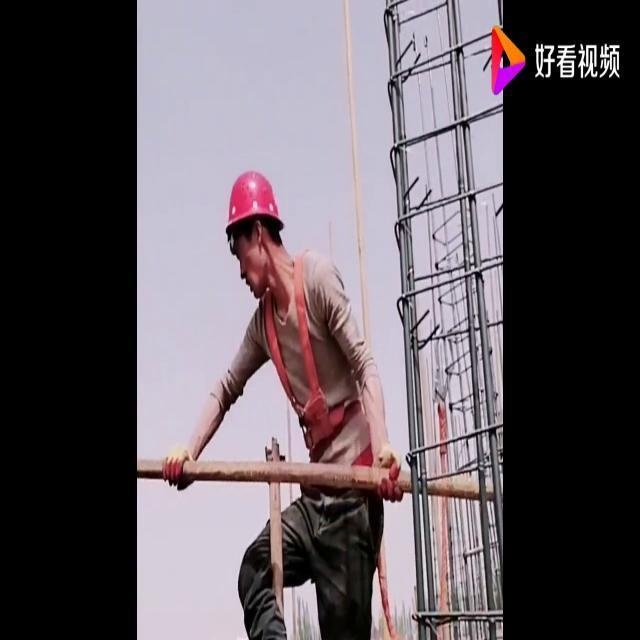Arnes_seguridad: (260, 243, 364, 449)
